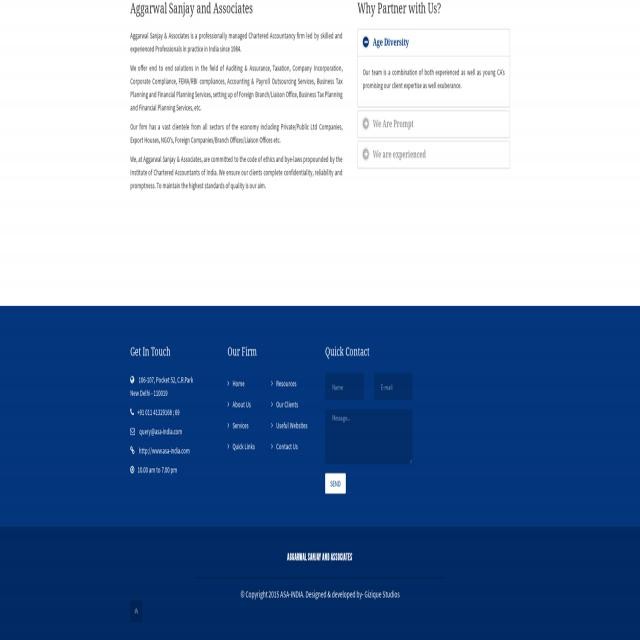button: (358, 142, 510, 170), (358, 111, 510, 138), (358, 30, 510, 57), (284, 544, 356, 569), (325, 473, 345, 494), (130, 600, 142, 622)
field: (325, 408, 413, 464), (325, 373, 363, 400), (374, 373, 412, 400)
